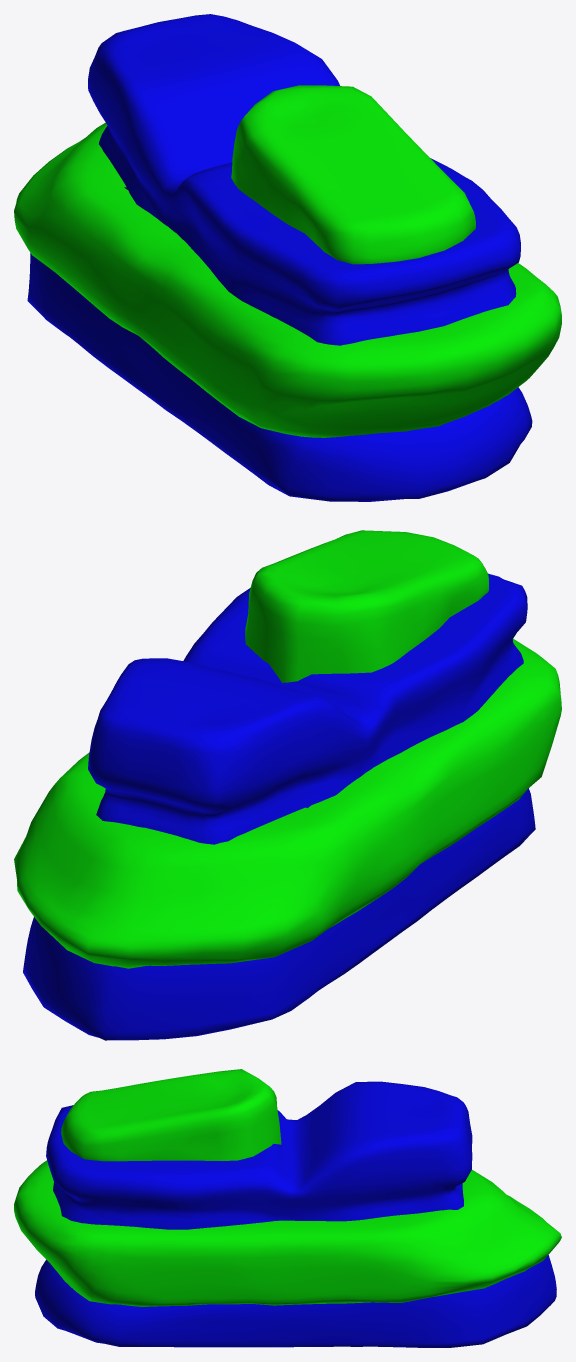
The model's file is rock8.fbx.
3 views of the same model, one above another, from view 1: azimuth 30°, elevation 25°; view 2: azimuth 150°, elevation 25°; view 3: azimuth 270°, elevation 25° (orthographic). The views are drawn at different scales.
Visible parts, largest first — view 1: rocher8:rock8; view 2: rocher8:rock8; view 3: rocher8:rock8.
Boxes of the visible parts, left/top/right/bottom form: rocher8:rock8: left=14, top=14, right=561, bottom=501; rocher8:rock8: left=14, top=530, right=561, bottom=1040; rocher8:rock8: left=14, top=1069, right=561, bottom=1347.
Bounding box in the file's own units: 696 × 657 × 1523.
